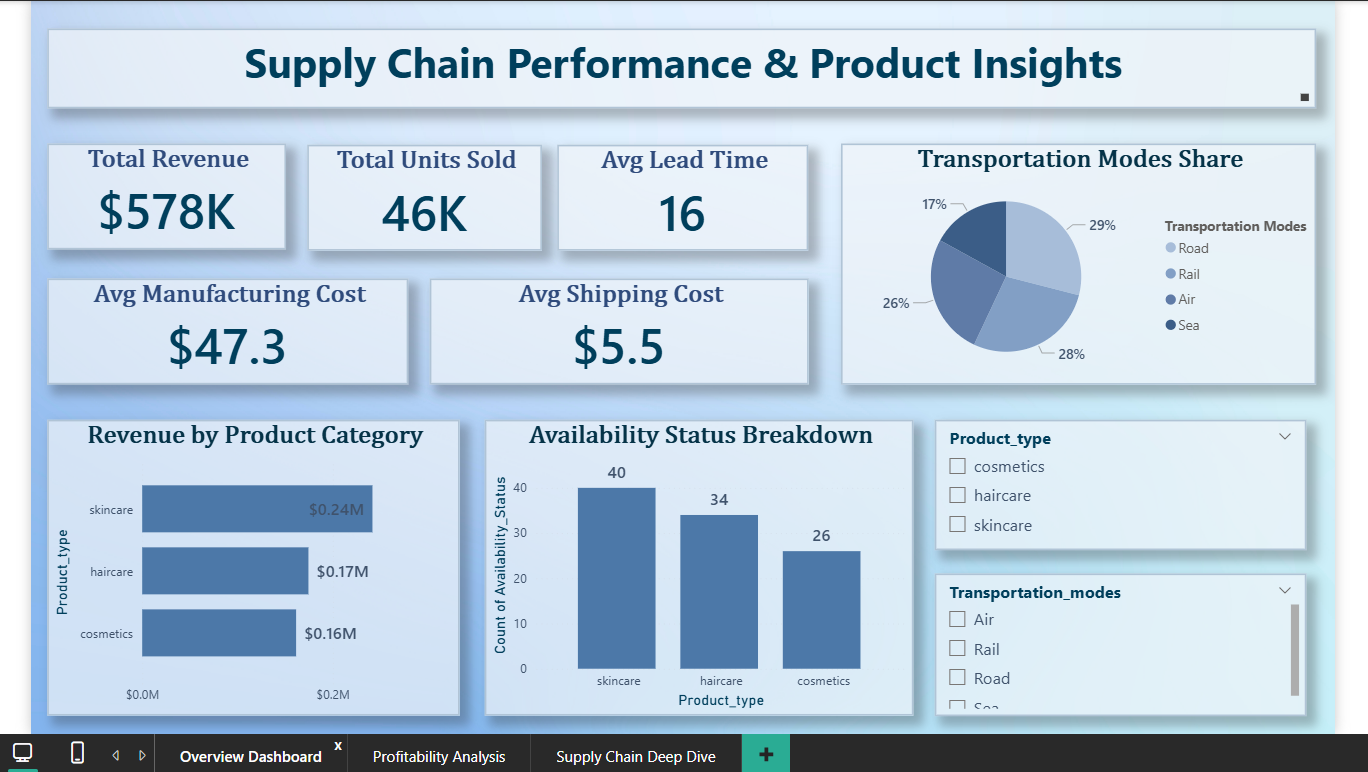

The dashboard page shown, as its layout file describes it:
{"tool":"powerbi","page":{"name":"Overview Dashboard","canvas":[1280,720],"ordinal":0},"visuals":[{"type":"card","title":"Total Revenue","fields":{"Values":["Sum(project_supply_chain_data supply_chain_table.Revenue_generated)"]},"box":[16,139.9,234.4,104.3],"z":0},{"type":"card","title":"Total Units Sold","fields":{"Values":["Sum(project_supply_chain_data supply_chain_table.Number_of_products_sold)"]},"box":[271.2,141.1,230.7,104.3],"z":1000},{"type":"card","title":"Avg Manufacturing Cost","fields":{"Values":["Avg(project_supply_chain_data supply_chain_table.Manufacturing_costs)"]},"box":[16,272.4,354.6,104.3],"z":2000},{"type":"card","title":"Avg Shipping Cost","fields":{"Values":["Avg(project_supply_chain_data supply_chain_table.Shipping_costs)"]},"box":[391.4,272.4,371.8,104.3],"z":3000},{"type":"card","title":"Avg Lead Time","fields":{"Values":["Avg(project_supply_chain_data supply_chain_table.Lead_times)"]},"box":[516.6,141.1,246.6,104.3],"z":4000},{"type":"clusteredBarChart","title":"\tRevenue by Product Category","fields":{"Category":["project_supply_chain_data supply_chain_table.Product_type"],"Y":["Sum(project_supply_chain_data supply_chain_table.Revenue_generated)"]},"box":[16,411,404.9,290.8],"z":5000},{"type":"columnChart","title":"Availability Status Breakdown","fields":{"Category":["project_supply_chain_data supply_chain_table.Product_type"],"Y":["CountNonNull(project_supply_chain_data supply_chain_table.Availability_Status)"]},"box":[445.4,411,420.9,290.8],"z":6000},{"type":"pieChart","title":"Transportation Modes Share","fields":{"Category":["project_supply_chain_data supply_chain_table.Transportation_modes"],"Y":["CountNonNull(project_supply_chain_data supply_chain_table.SKU)"]},"box":[795.1,139.9,466.3,236.8],"z":7000},{"type":"slicer","fields":{"Values":["project_supply_chain_data supply_chain_table.Transportation_modes"]},"box":[887.1,562,364.4,139.9],"z":8000},{"type":"slicer","fields":{"Values":["project_supply_chain_data supply_chain_table.Product_type"]},"box":[887.1,411,364.4,127.6],"z":9000},{"type":"textbox","title":"Supply Chain Performance & Product Insights","box":[16,27,1245.4,78.5],"z":10000}]}

Visuals, with their boxes on the page's 1280x720 design canvas (x1, y1, x2, y2). These are canvas units, not pixel positions in the 1368x772 screenshot, which may show the page scaled, cropped or inside an application window:
"Total Revenue" card: select_region(16, 140, 250, 244)
"Total Units Sold" card: select_region(271, 141, 502, 245)
"Avg Manufacturing Cost" card: select_region(16, 272, 371, 377)
"Avg Shipping Cost" card: select_region(391, 272, 763, 377)
"Avg Lead Time" card: select_region(517, 141, 763, 245)
"	Revenue by Product Category" clusteredBarChart: select_region(16, 411, 421, 702)
"Availability Status Breakdown" columnChart: select_region(445, 411, 866, 702)
"Transportation Modes Share" pieChart: select_region(795, 140, 1261, 377)
slicer - project_supply_chain_data supply_chain_table.Transportation_modes: select_region(887, 562, 1252, 702)
slicer - project_supply_chain_data supply_chain_table.Product_type: select_region(887, 411, 1252, 539)
"Supply Chain Performance & Product Insights" textbox: select_region(16, 27, 1261, 106)
